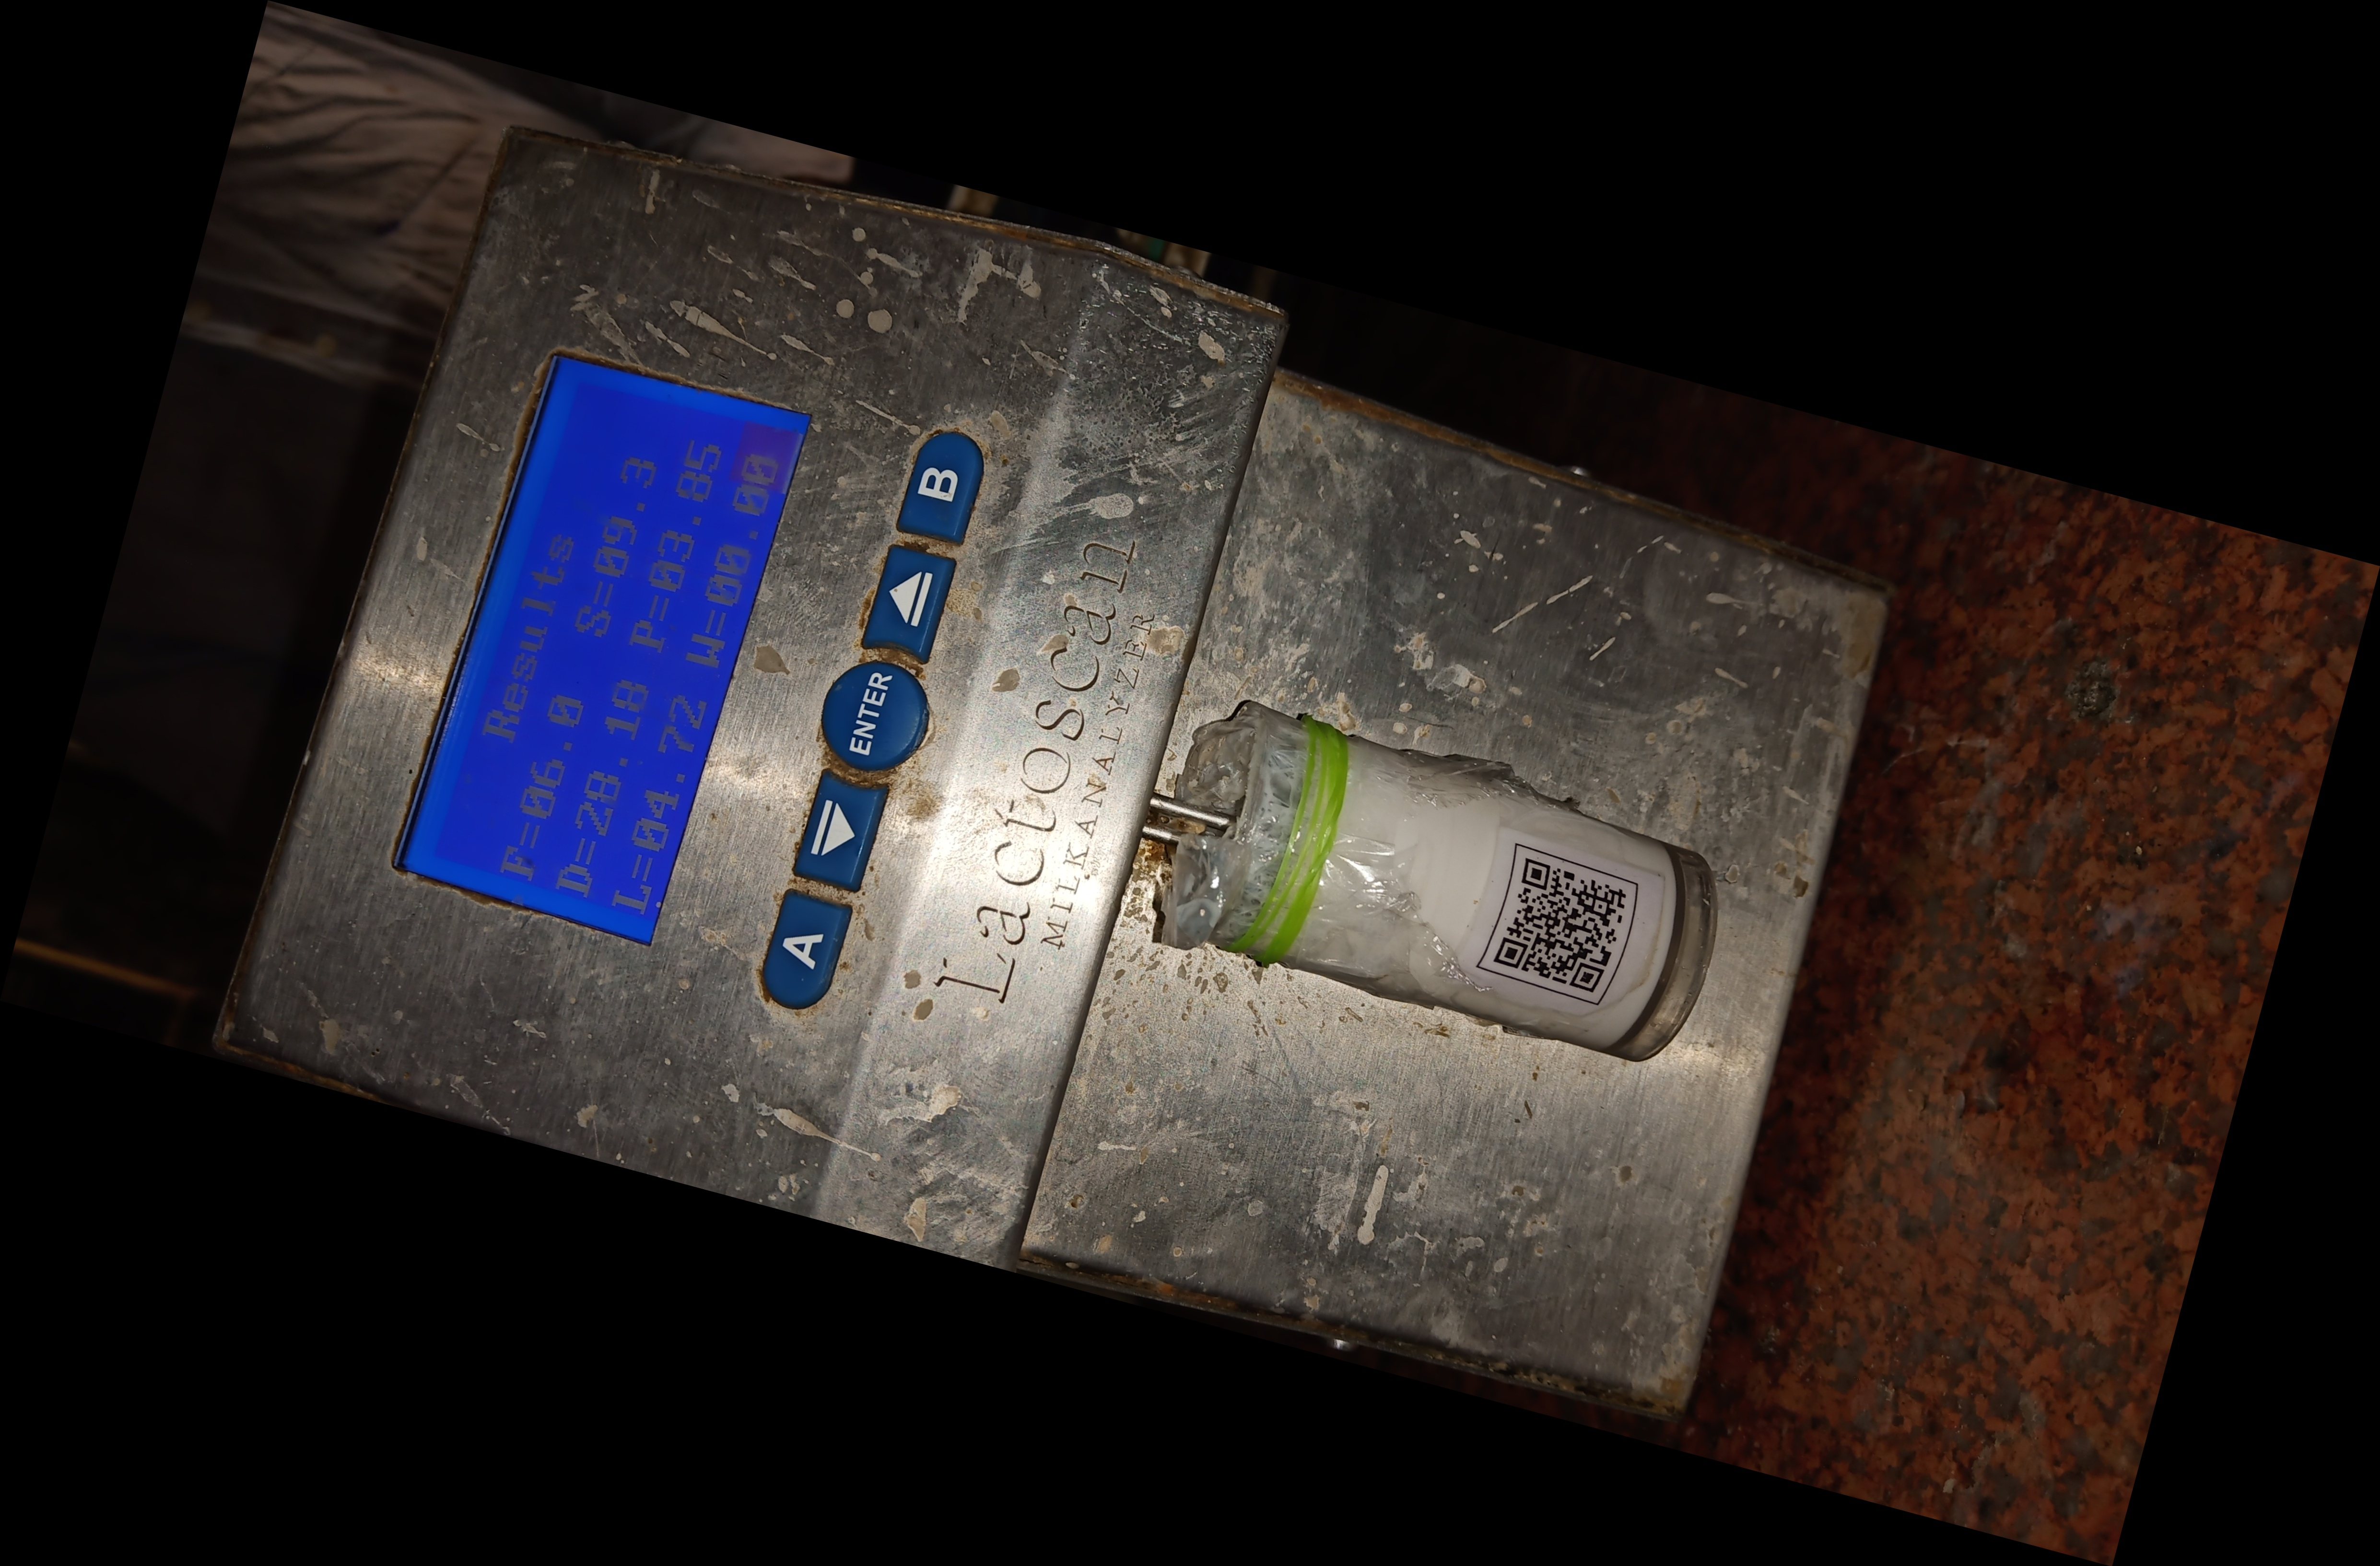lcd: (370, 339, 825, 1015)
qr: (1464, 821, 1657, 1010)
